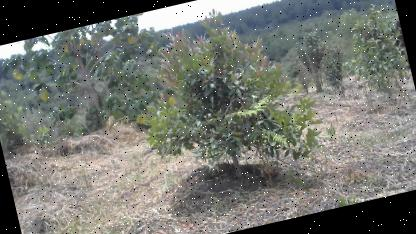tree: (113, 0, 324, 200)
